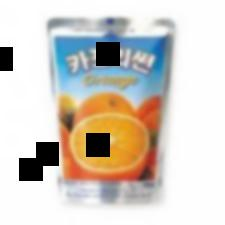cafrisun: (40, 17, 178, 210)
